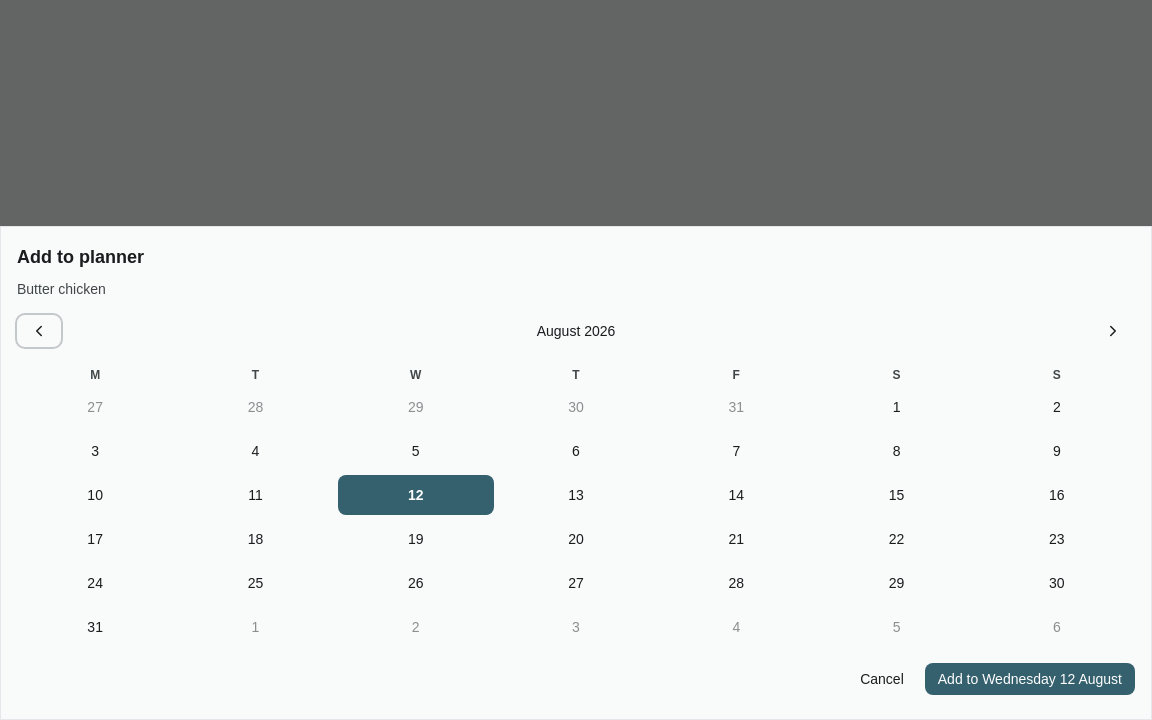
Test: RecipeAddToPlannerSheet — the calendar › reaches other months without leaving the sheet
Check: the text "August 2026" is shown, box [537,321,615,341]
Click the button with test id "planner-add-next-month".
click(1113, 331)  # box [1091,315,1135,347]
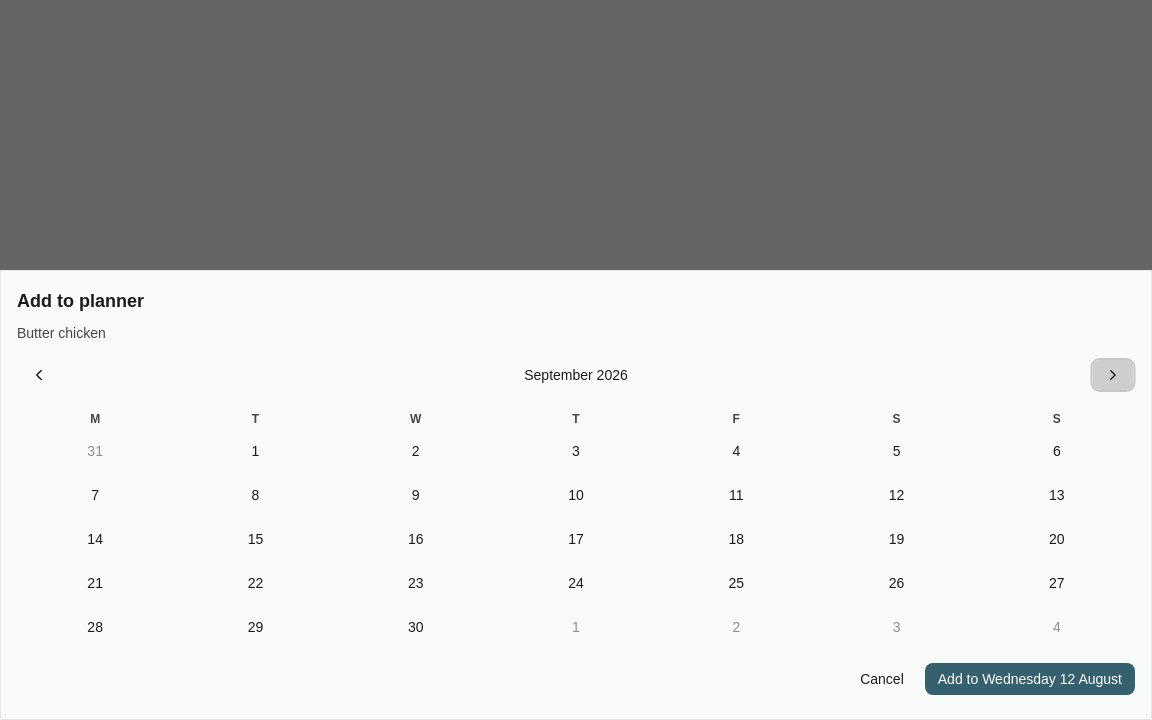
Check: the text with test id "planner-add-month" reads "September 2026", box [524,367,628,383]
Click the button with test id "planner-add-prev-month".
click(39, 375)  # box [17,359,61,391]
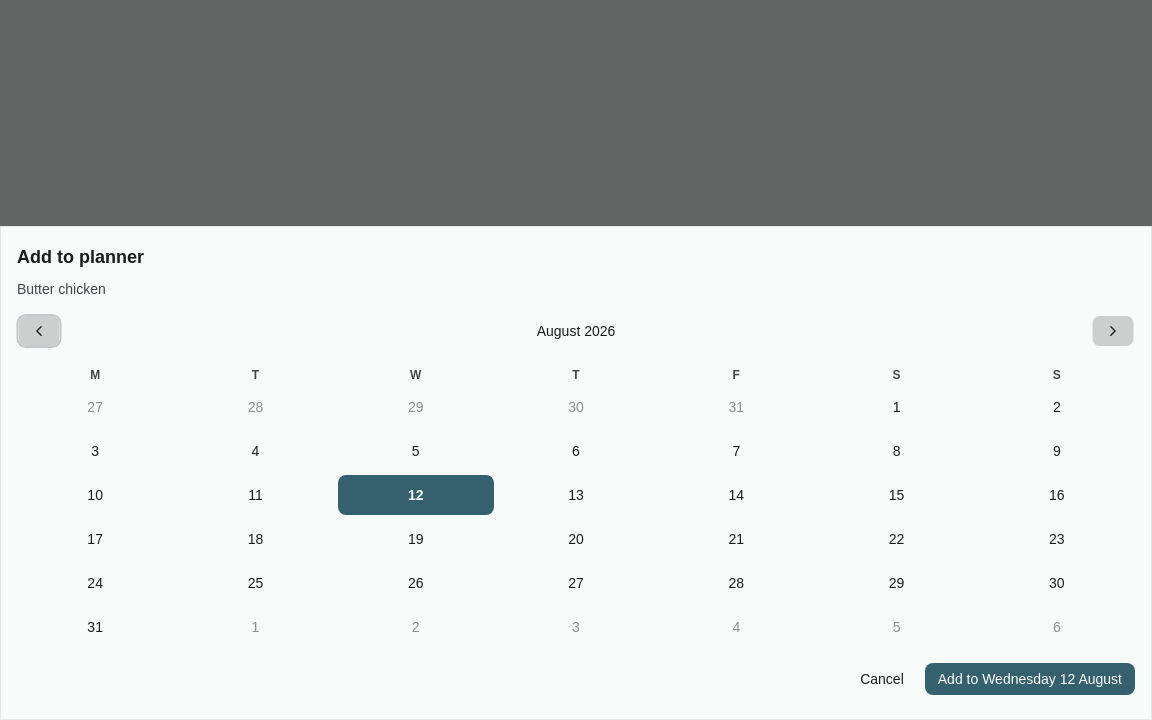
Click the button with test id "planner-add-prev-month".
click(39, 331)  # box [18,316,60,346]
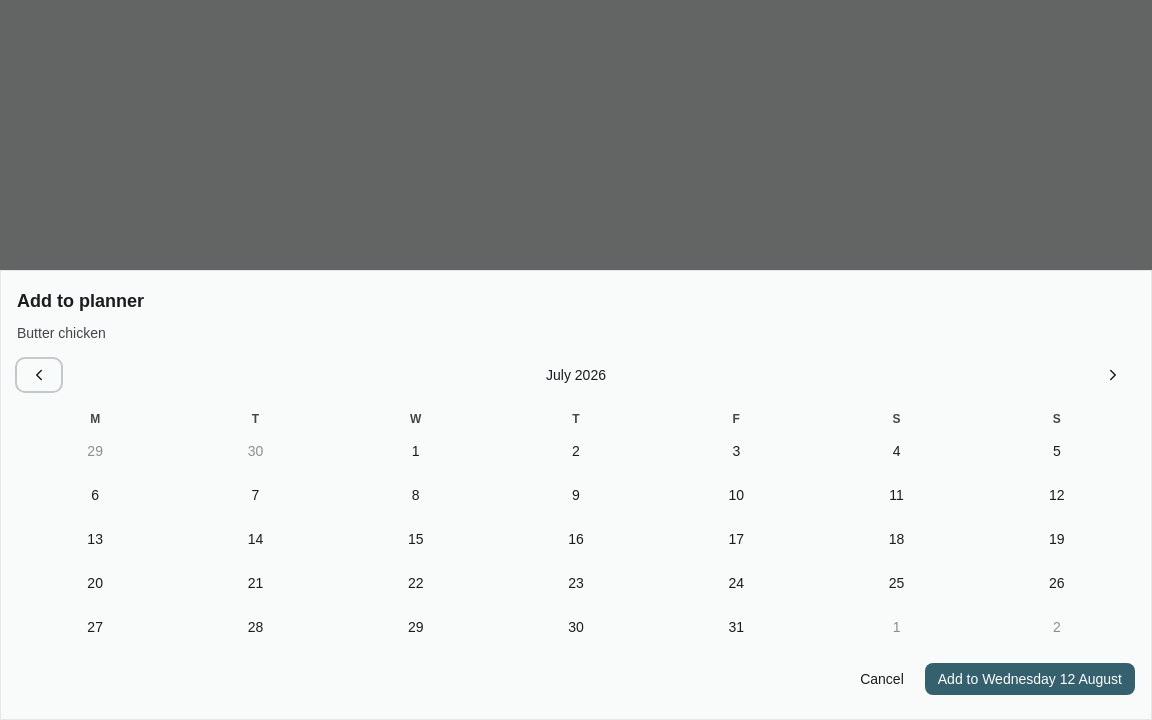
Check: the text with test id "planner-add-month" reads "July 2026", box [546,367,606,383]
